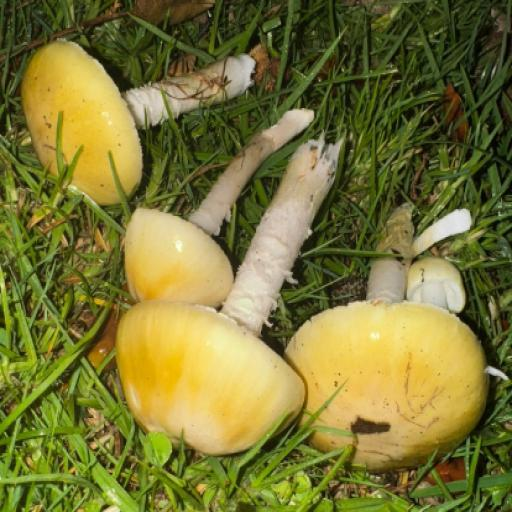mushroom: (274, 262, 512, 498), (86, 280, 323, 483), (0, 25, 164, 226), (114, 206, 243, 317)
